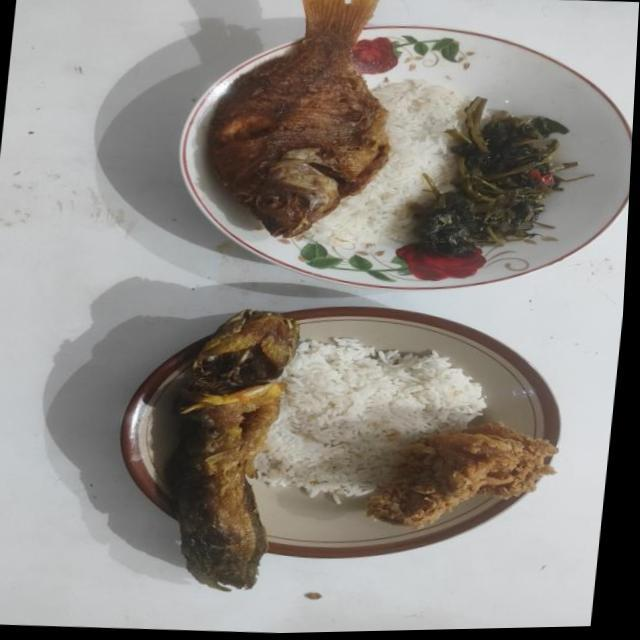ikan_mujair: (207, 0, 390, 238)
nasi_putih: (256, 338, 484, 503), (304, 80, 469, 249)
tumis_kangkung: (416, 98, 578, 258)
